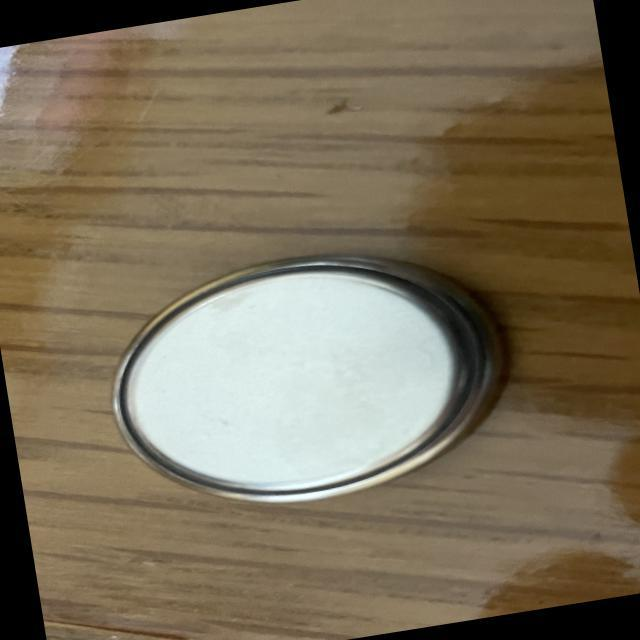COIN: (98, 224, 534, 528)
